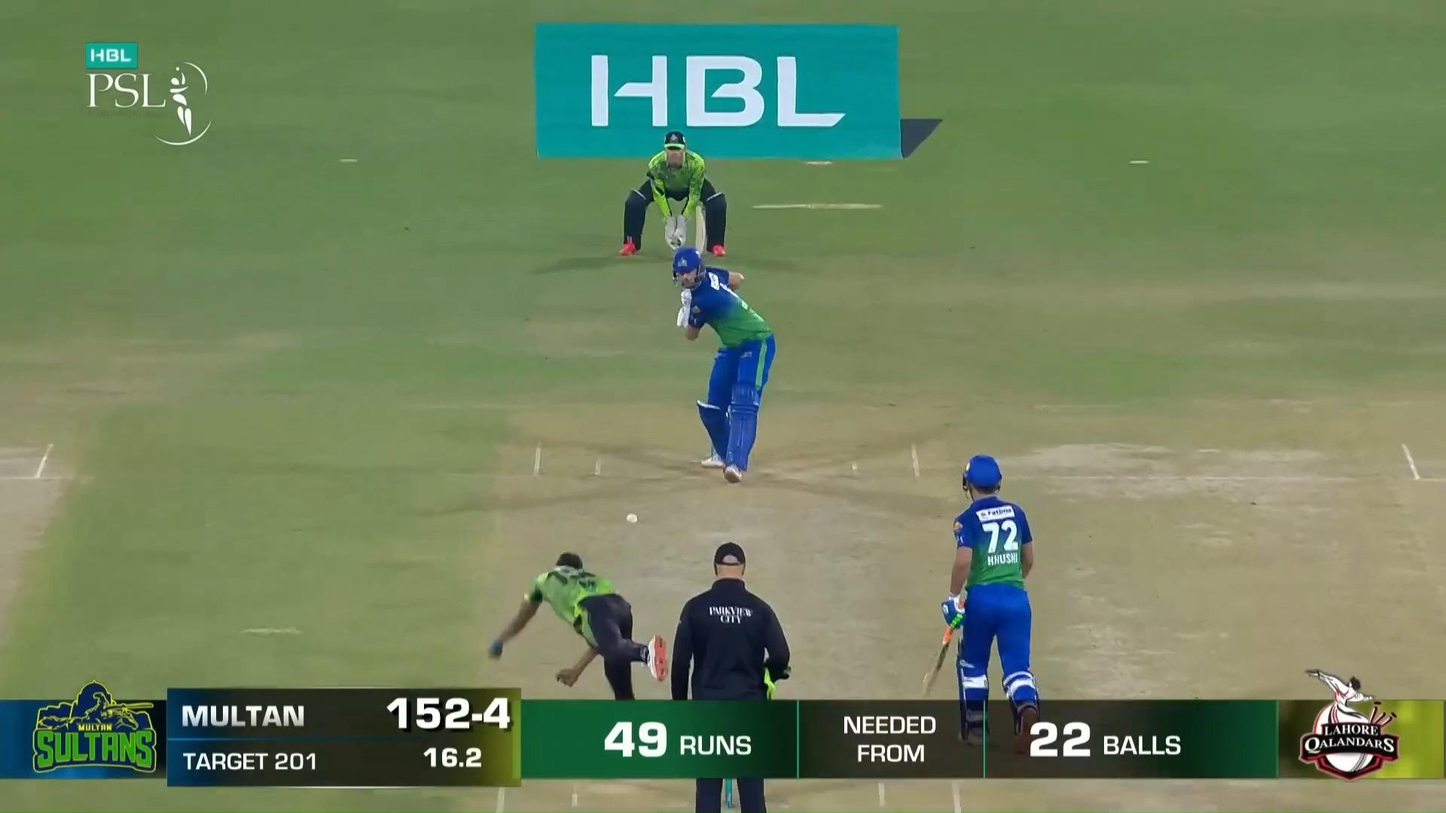batsman: (673, 205, 777, 484)
